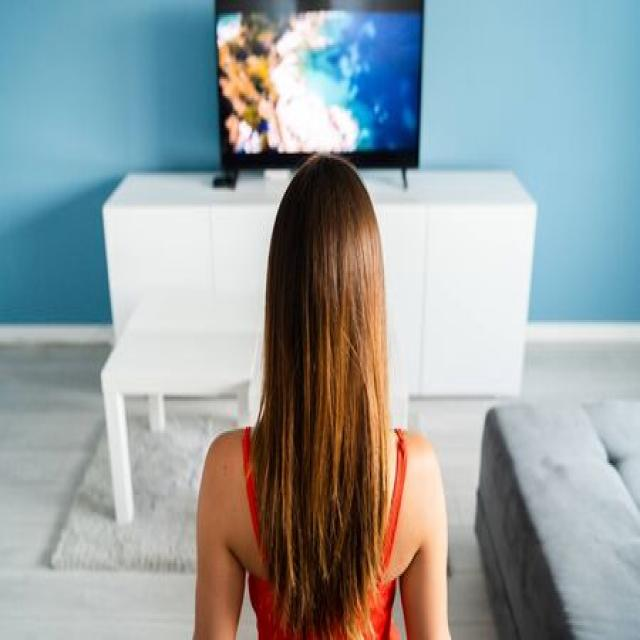tv-person: (191, 0, 470, 640)
